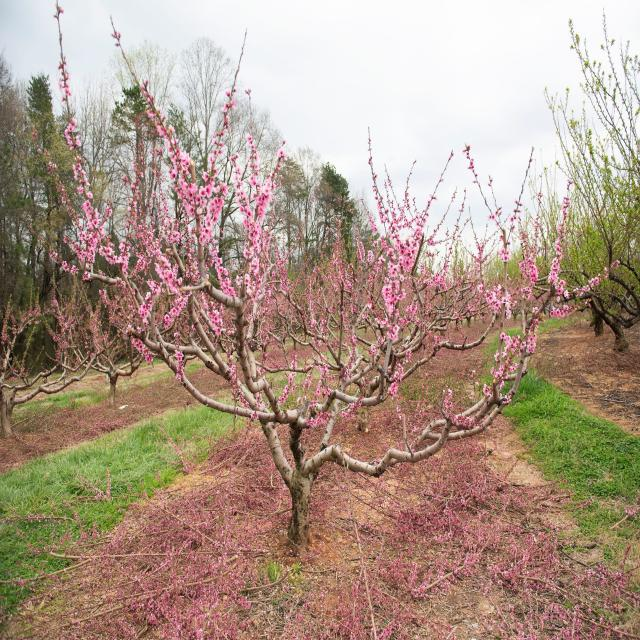peach: (50, 19, 288, 417)
